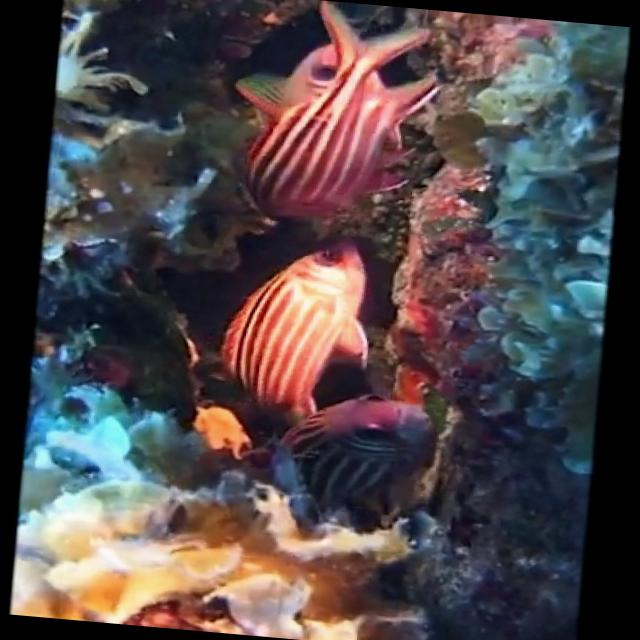Asker Baligi: (220, 0, 451, 235), (205, 232, 382, 438)
